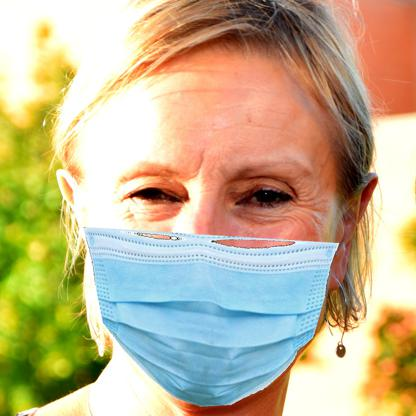mask: (80, 221, 340, 407)
